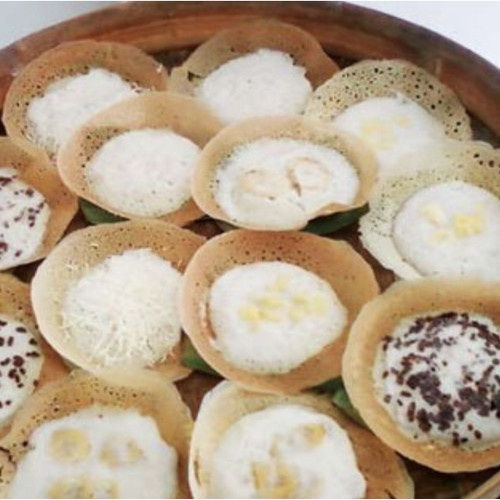srabi: (160, 220, 358, 388), (40, 63, 215, 220), (186, 114, 390, 239)
